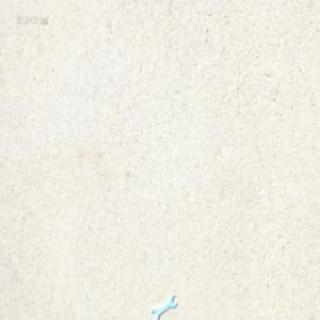Wrenchtrack_idkeyframe: (150, 290, 177, 316)
